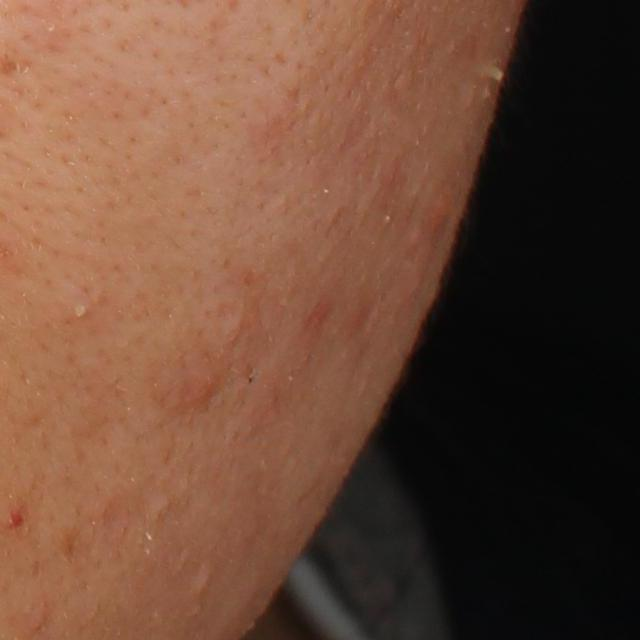comedo: (189, 569, 212, 599), (151, 499, 176, 517)
papule: (169, 369, 224, 419), (2, 505, 30, 532)
pustule: (68, 297, 94, 322)
